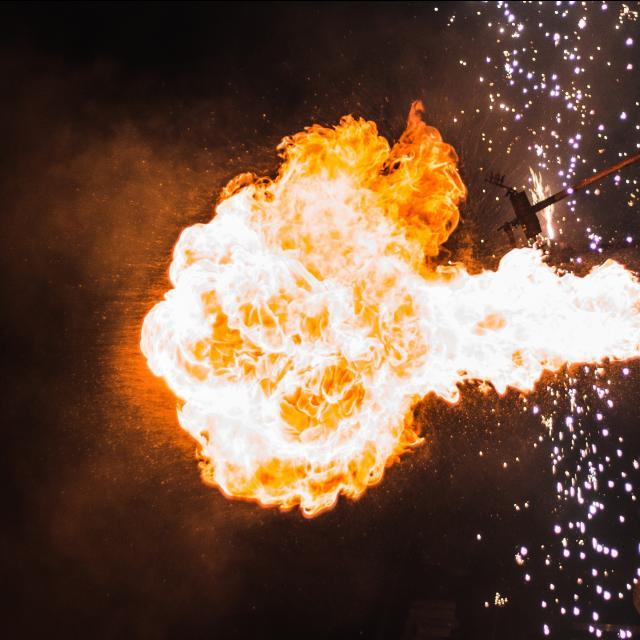Fire: (132, 114, 640, 518)
